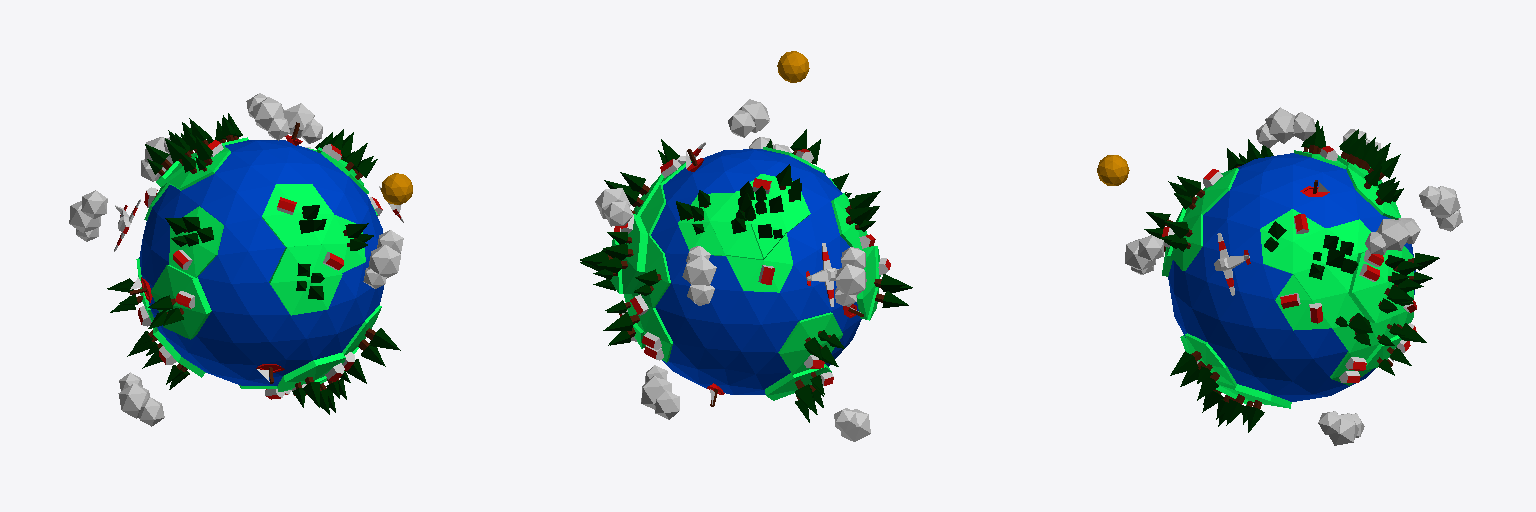
File: world.obj
3 views of the same model, side by side, from view 1: azimuth 30°, elevation 25°; view 2: azimuth 150°, elevation 25°; view 3: azimuth 270°, elevation 25° (orthographic).
Visible parts, largest first — view 1: Water_Icosphere.001, Earth_Icosphere, Icosphere.002_Icosphere.004, Icosphere.005_Icosphere.007, Icosphere.006_Icosphere.008, Icosphere_Icosphere.002, Icosphere.001_Icosphere.003, Sun_Icosphere.009, Icosphere.004_Icosphere.006; view 2: Water_Icosphere.001, Earth_Icosphere, Icosphere.006_Icosphere.008, Icosphere.004_Icosphere.006, Icosphere.003_Icosphere.005, Icosphere_Icosphere.002, Icosphere.001_Icosphere.003, Icosphere.005_Icosphere.007, Sun_Icosphere.009, Plane.001_Plane.004; view 3: Water_Icosphere.001, Earth_Icosphere, Icosphere_Icosphere.002, Icosphere.001_Icosphere.003, Icosphere.004_Icosphere.006, Icosphere.002_Icosphere.004, Icosphere.003_Icosphere.005, Sun_Icosphere.009, Plane_Plane.004.
Part boxes in pixels (x1,y1,x2,y2): Water_Icosphere.001: (139, 140, 383, 385); Earth_Icosphere: (136, 137, 381, 391); Icosphere.002_Icosphere.004: (363, 230, 403, 288); Icosphere.005_Icosphere.007: (118, 372, 164, 426); Icosphere.006_Icosphere.008: (69, 190, 107, 241); Icosphere_Icosphere.002: (246, 93, 289, 140); Icosphere.001_Icosphere.003: (284, 103, 322, 143); Sun_Icosphere.009: (381, 173, 412, 204); Icosphere.004_Icosphere.006: (141, 137, 172, 181); Water_Icosphere.001: (651, 149, 861, 394); Earth_Icosphere: (610, 147, 880, 400); Icosphere.006_Icosphere.008: (835, 247, 866, 306); Icosphere.004_Icosphere.006: (682, 246, 716, 305); Icosphere.003_Icosphere.005: (641, 365, 679, 419); Icosphere_Icosphere.002: (728, 99, 769, 137); Icosphere.001_Icosphere.003: (595, 188, 632, 226); Icosphere.005_Icosphere.007: (834, 408, 870, 441); Sun_Icosphere.009: (777, 51, 809, 82); Plane.001_Plane.004: (806, 243, 838, 306); Water_Icosphere.001: (1168, 153, 1415, 401); Earth_Icosphere: (1162, 150, 1413, 408); Icosphere_Icosphere.002: (1256, 107, 1315, 148); Icosphere.001_Icosphere.003: (1365, 218, 1420, 254); Icosphere.004_Icosphere.006: (1419, 186, 1462, 231); Icosphere.002_Icosphere.004: (1125, 235, 1163, 274); Icosphere.003_Icosphere.005: (1318, 411, 1364, 445); Sun_Icosphere.009: (1097, 155, 1129, 185); Plane_Plane.004: (1214, 233, 1250, 295).
Size of the model in its own units: 2.75 by 2.81 by 3.08.